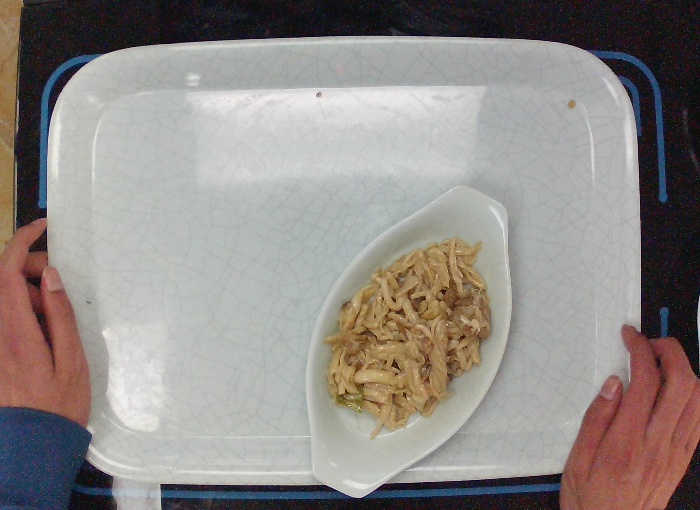JYsf-Yu_Pan: (299, 170, 518, 498)
